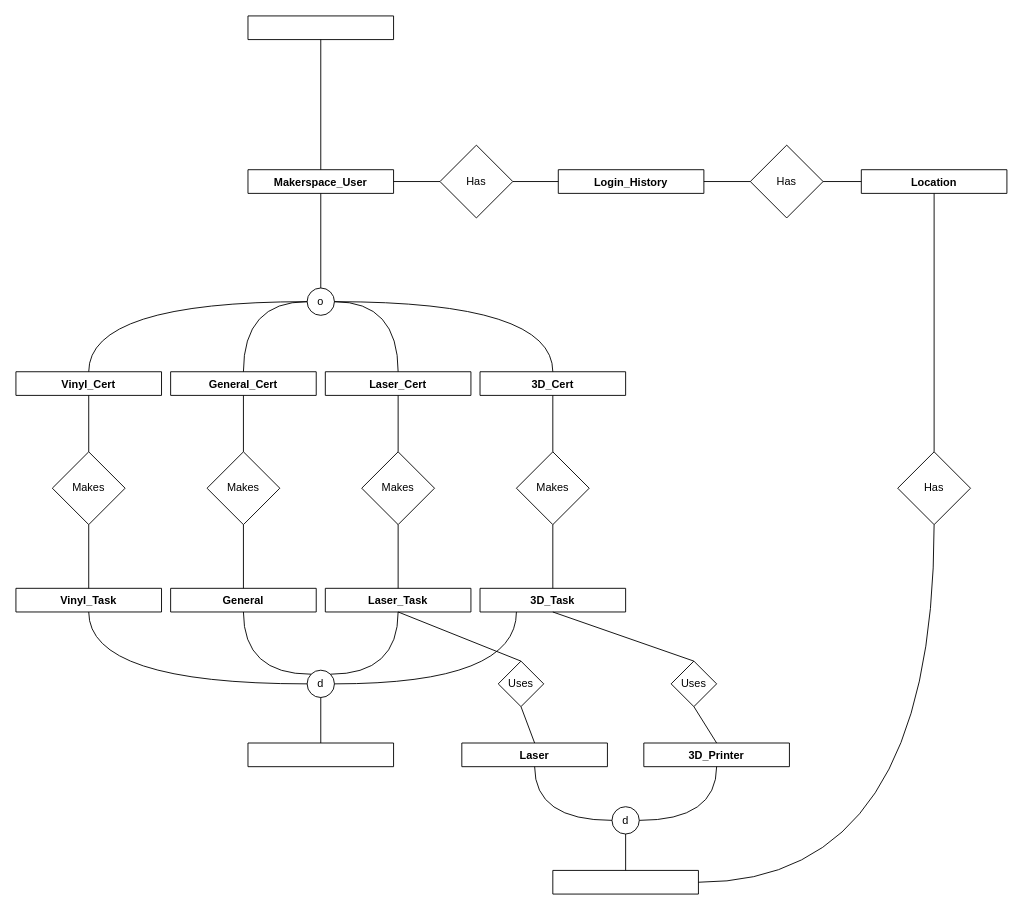
The diagram is 1023 pixels wide and 910 high, and some of its shapes have lost their labels. Each missing label, with the box of its shape:
Clemson_Student: (247, 15, 394, 40)
Machines: (552, 870, 698, 894)
Tasks: (247, 742, 394, 767)
